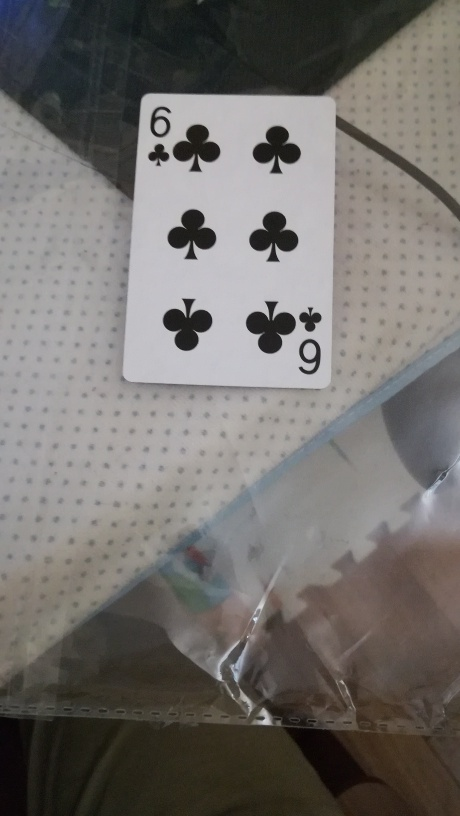mh 6: (122, 92, 336, 390)
